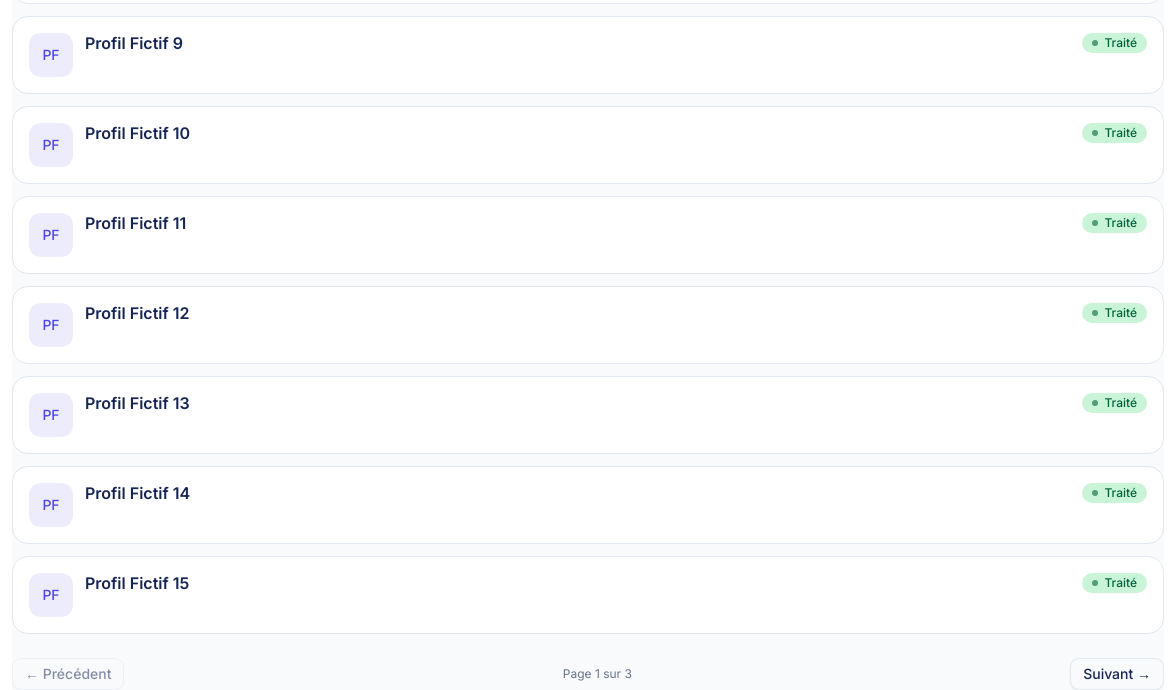
Test case: Pagination des candidats › affiche 15 profils, navigue sans doublons et désactive les boutons aux extrémités
(page scrolled)
Expected: the button "← Précédent" is disabled, [12, 658, 124, 689]
Click the button "Suivant →".
click(1117, 674)  # box [1070, 658, 1164, 689]
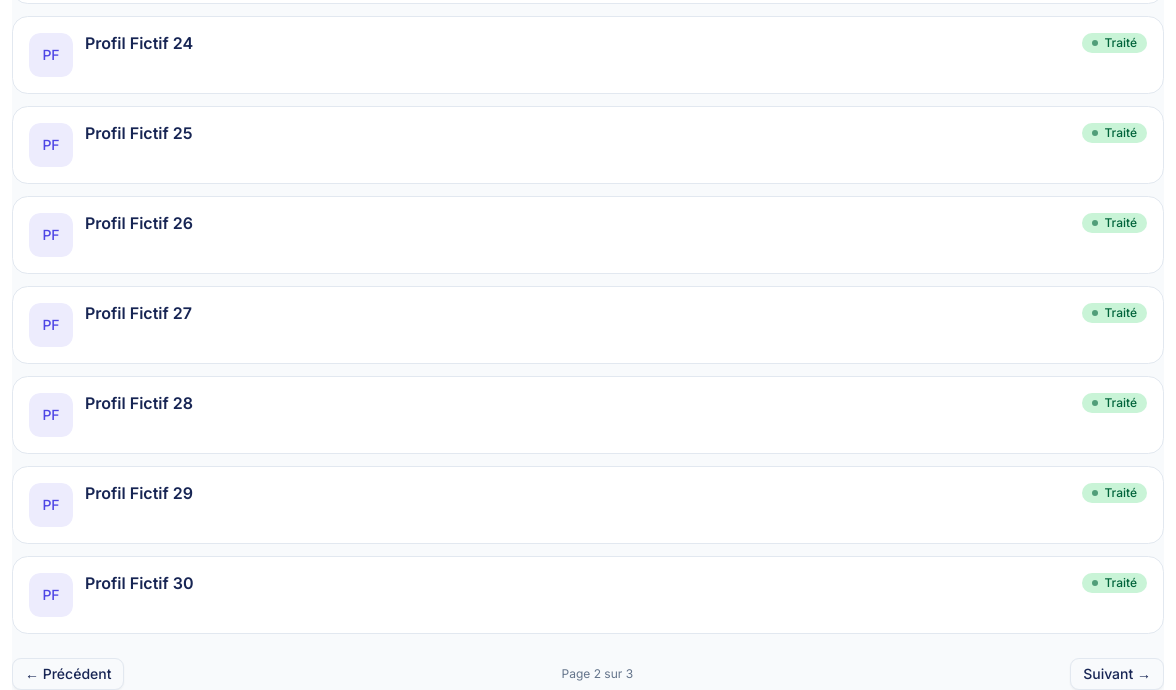
Result: the link "Profil Fictif 15" is gone
Click the button "Suivant →".
click(1117, 674)  # box [1070, 658, 1164, 689]
(page scrolled)
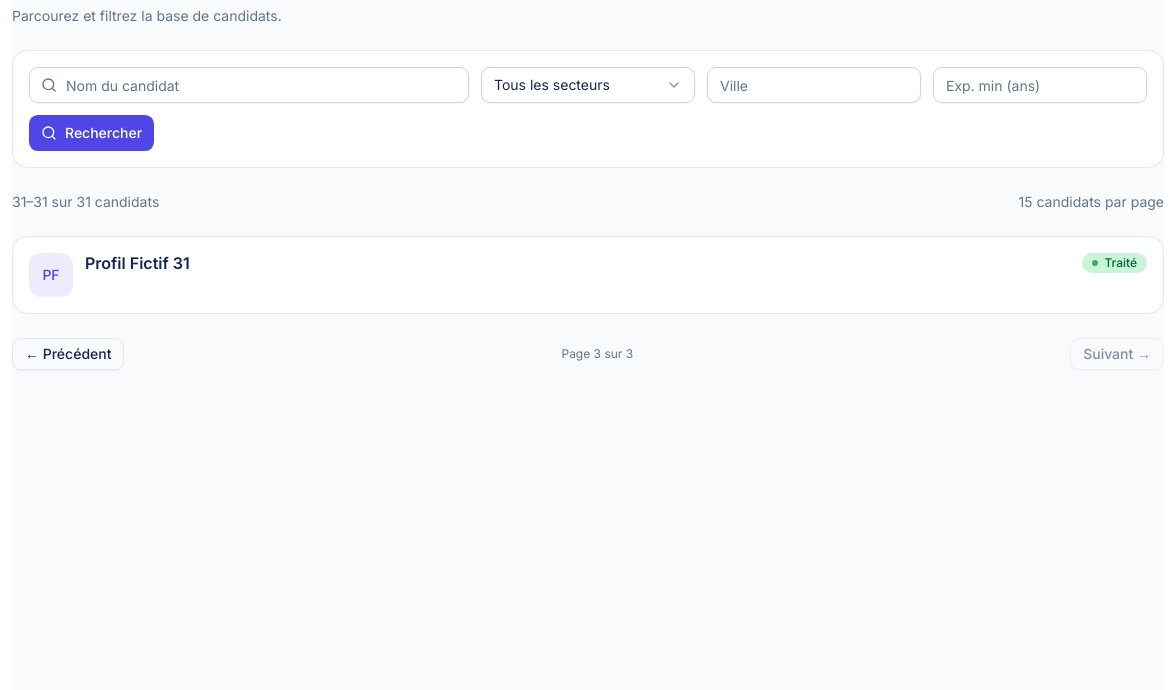
Result: the text "Page 3 sur 3" is shown at [562, 346, 633, 362]
Result: the number of list items is 1 at [12, 236, 1164, 314]
Result: the text "Profil Fictif 31" is shown at [85, 253, 190, 273]
Click the button "← Précédent".
click(68, 354)  # box [12, 338, 124, 370]
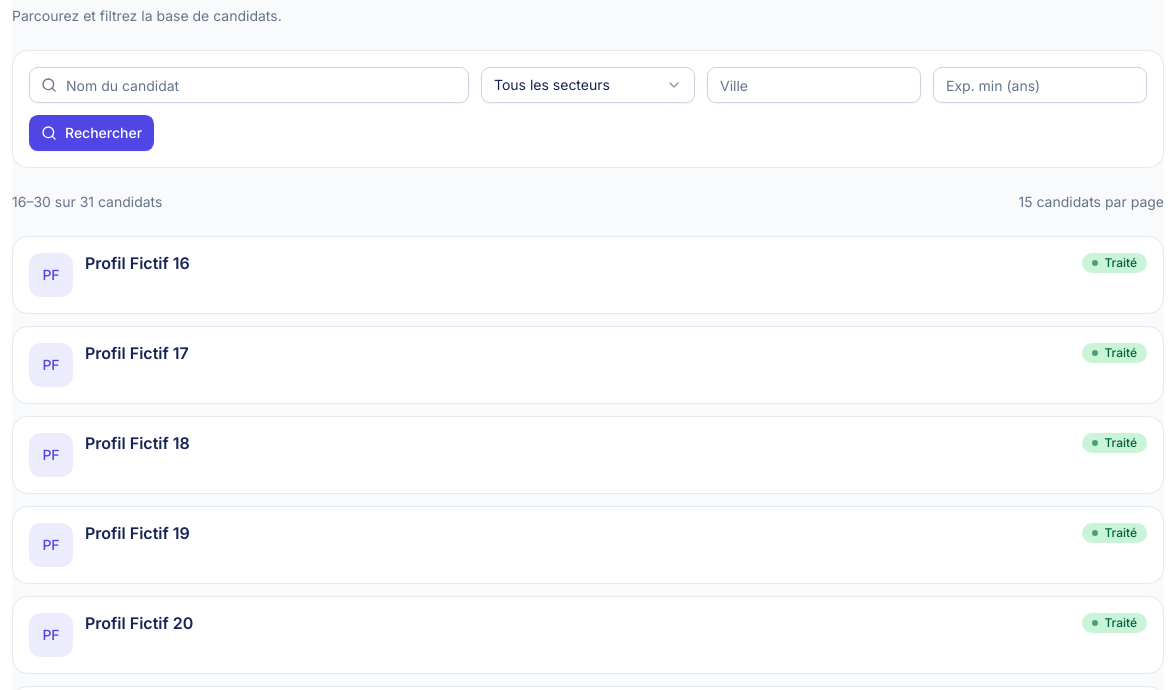
Result: the text "16–30 sur 31 candidats" is shown at [12, 192, 162, 212]
